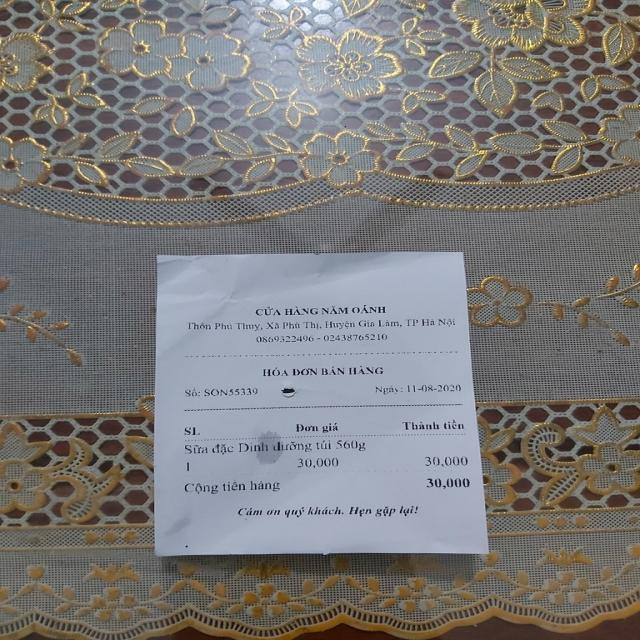Date: (404, 379, 466, 395)
Store_Name: (252, 305, 389, 316)
amount_number: (426, 476, 474, 492)
label_total: (179, 479, 285, 494)
